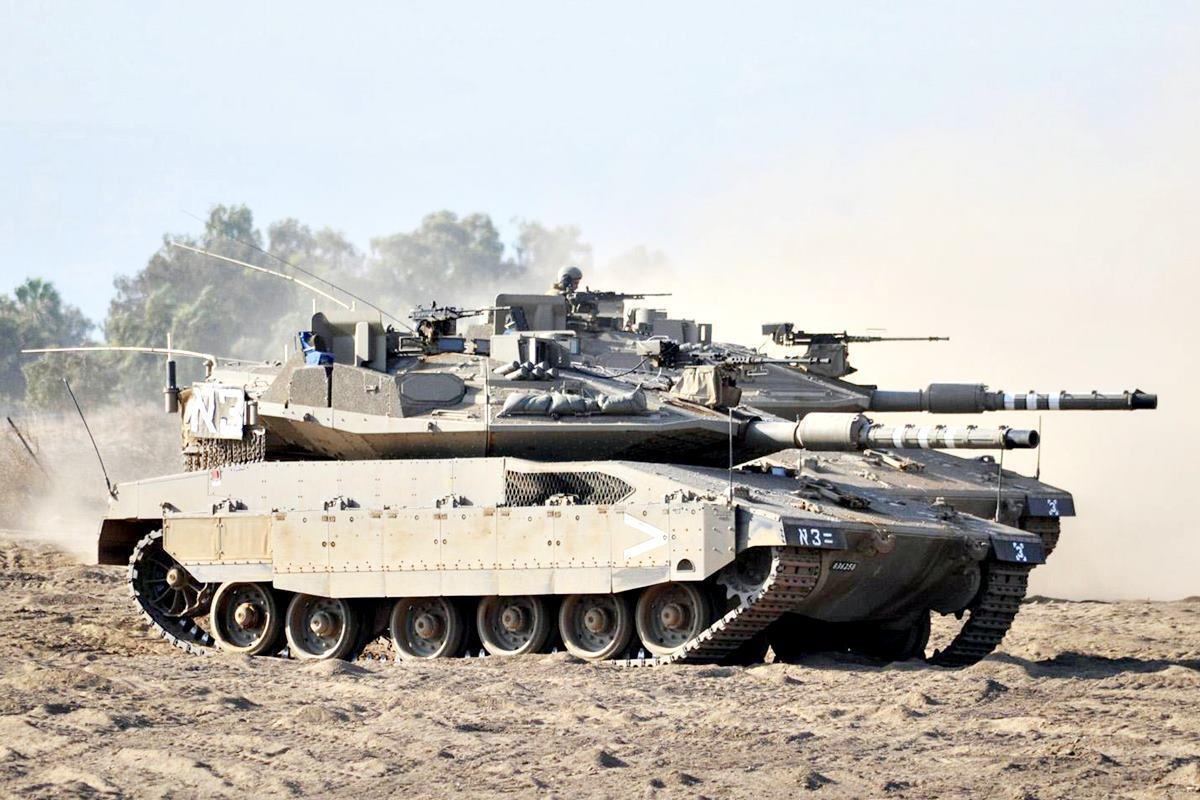MIL_IFV: (89, 265, 1166, 672)
